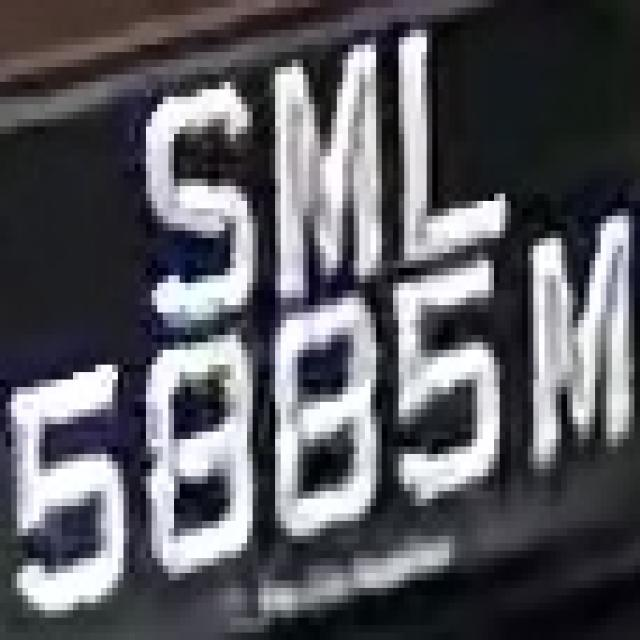5: (6, 335, 140, 632), (387, 261, 511, 528)
8: (123, 320, 270, 595), (258, 290, 388, 573)
L: (393, 22, 522, 260)
M: (499, 223, 640, 483), (253, 30, 387, 290)
S: (129, 67, 264, 320)
